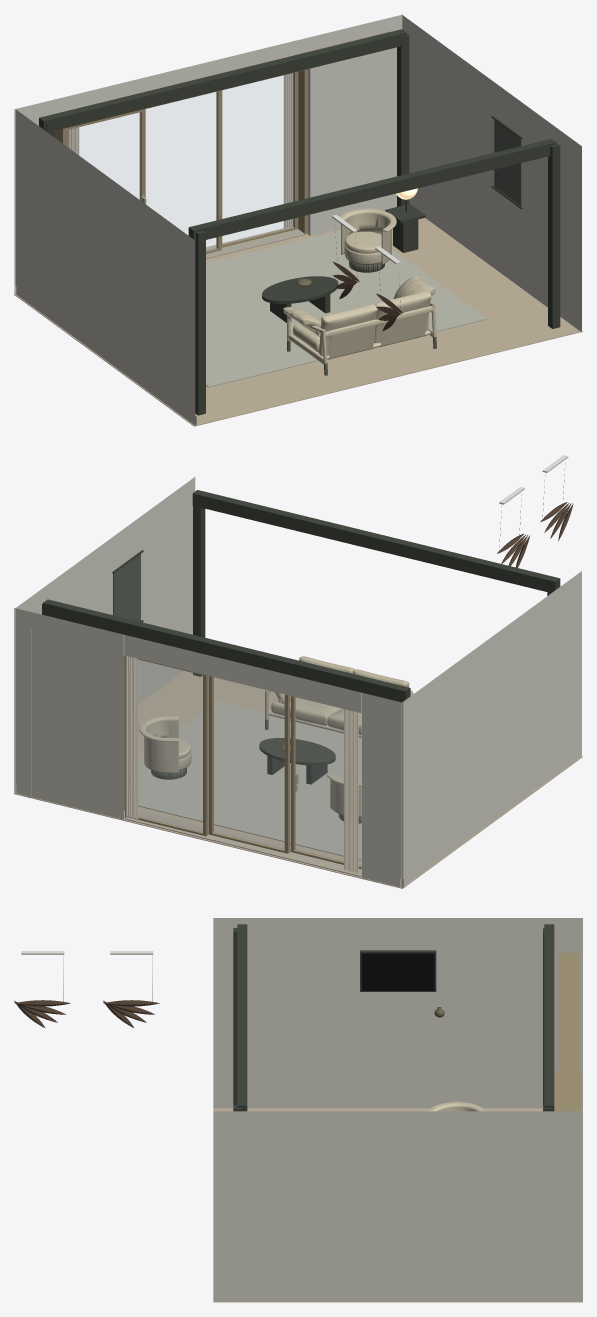
Rendered from great-2.glb.
The picture shows the model from 3 angles, top to bottom: view 1: azimuth 30°, elevation 25°; view 2: azimuth 150°, elevation 25°; view 3: azimuth 270°, elevation 25°; orthographic projection. The views are drawn at different scales.
Visible parts, largest first — view 1: DESIGN | great removable wall finish, DESIGN | great floor finish, DESIGN | Great room primary ground, DESIGN | R10 pocket enclosure face, DESIGN | R10 pocket panel 3 glass, DESIGN | R10 pocket panel 2 glass, DESIGN | Great room sofa facing conversation, DESIGN | Great room timber ceiling member.001, DESIGN | Great room timber ceiling member, DESIGN | R10 pocket panel 1 glass, DESIGN | Required Bellustar swivel chair two, DESIGN | Great room timber end post.002 (+10 smaller); view 2: DESIGN | great removable wall finish, DESIGN | Great room primary ground, DESIGN | R10 pocket panel 2 glass, DESIGN | R10 pocket panel 3 glass, DESIGN | R10 pocket panel 1 glass, DESIGN | Great room timber ceiling member, DESIGN | Great room timber ceiling member.001, DESIGN | great floor finish, DESIGN | Required Bellustar swivel chair two, DESIGN | Great room sofa facing conversation, DESIGN | Great room soft window edge, DESIGN | Great room soft window edge.001 (+11 smaller); view 3: DESIGN | great removable wall finish, DESIGN | R10 television inactive screen, DESIGN | R10 garden opening head, DESIGN | Great room timber ceiling member, DESIGN | Great room timber ceiling member.001, DESIGN | great floor finish, DESIGN | R10 pocket access cap, DESIGN | Great room timber end post, DESIGN | Required Flou pendant 2, DESIGN | Required Flou pendant 1, DESIGN | R10 television frame.
Part boxes in pixels (box(x1,y1,x2,y2)): DESIGN | great removable wall finish: box(14, 14, 581, 425); DESIGN | great floor finish: box(14, 218, 582, 426); DESIGN | Great room primary ground: box(206, 230, 487, 387); DESIGN | R10 pocket enclosure face: box(308, 47, 396, 235); DESIGN | R10 pocket panel 3 glass: box(222, 73, 293, 244); DESIGN | R10 pocket panel 2 glass: box(146, 92, 216, 250); DESIGN | Great room sofa facing conversation: box(283, 275, 436, 375); DESIGN | Great room timber ceiling member.001: box(39, 29, 406, 130); DESIGN | Great room timber ceiling member: box(188, 138, 556, 242); DESIGN | R10 pocket panel 1 glass: box(69, 112, 140, 199); DESIGN | Required Bellustar swivel chair two: box(339, 208, 396, 272); DESIGN | Great room timber end post.002: box(548, 143, 560, 328); DESIGN | great removable wall finish: box(14, 477, 581, 887); DESIGN | Great room primary ground: box(138, 701, 361, 860); DESIGN | R10 pocket panel 2 glass: box(213, 677, 284, 849); DESIGN | R10 pocket panel 3 glass: box(138, 660, 202, 832); DESIGN | R10 pocket panel 1 glass: box(295, 697, 361, 865); DESIGN | Great room timber ceiling member: box(192, 490, 560, 592); DESIGN | Great room timber ceiling member.001: box(43, 599, 410, 702); DESIGN | great floor finish: box(14, 671, 582, 888); DESIGN | Required Bellustar swivel chair two: box(139, 715, 191, 779); DESIGN | Great room sofa facing conversation: box(265, 656, 413, 737); DESIGN | Great room soft window edge: box(344, 709, 358, 873); DESIGN | Great room soft window edge.001: box(126, 656, 138, 819); DESIGN | great removable wall finish: box(213, 918, 582, 1301); DESIGN | R10 television inactive screen: box(361, 953, 434, 990); DESIGN | R10 garden opening head: box(559, 952, 578, 1071); DESIGN | Great room timber ceiling member: box(237, 924, 247, 1111); DESIGN | Great room timber ceiling member.001: box(544, 924, 554, 1111); DESIGN | great floor finish: box(213, 1108, 582, 1302); DESIGN | R10 pocket access cap: box(554, 1071, 581, 1111); DESIGN | Great room timber end post: box(233, 928, 237, 1105); DESIGN | Required Flou pendant 2: box(103, 1000, 159, 1027); DESIGN | Required Flou pendant 1: box(14, 1000, 70, 1028); DESIGN | R10 television frame: box(360, 950, 436, 991).
Size of the model in its own units: 6 by 3.04 by 7.42.
